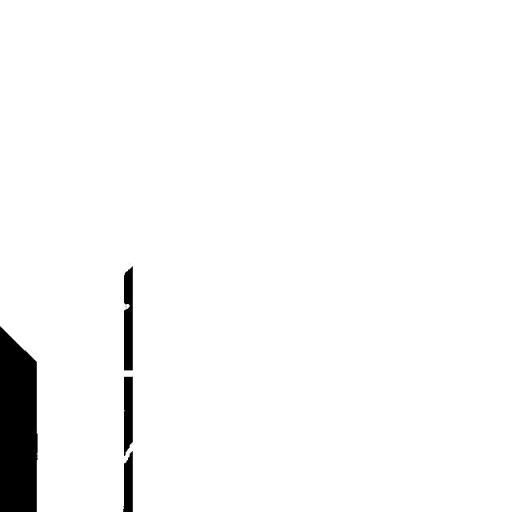mousebite: (114, 294, 137, 317)
open: (112, 434, 142, 470), (114, 362, 147, 384)
